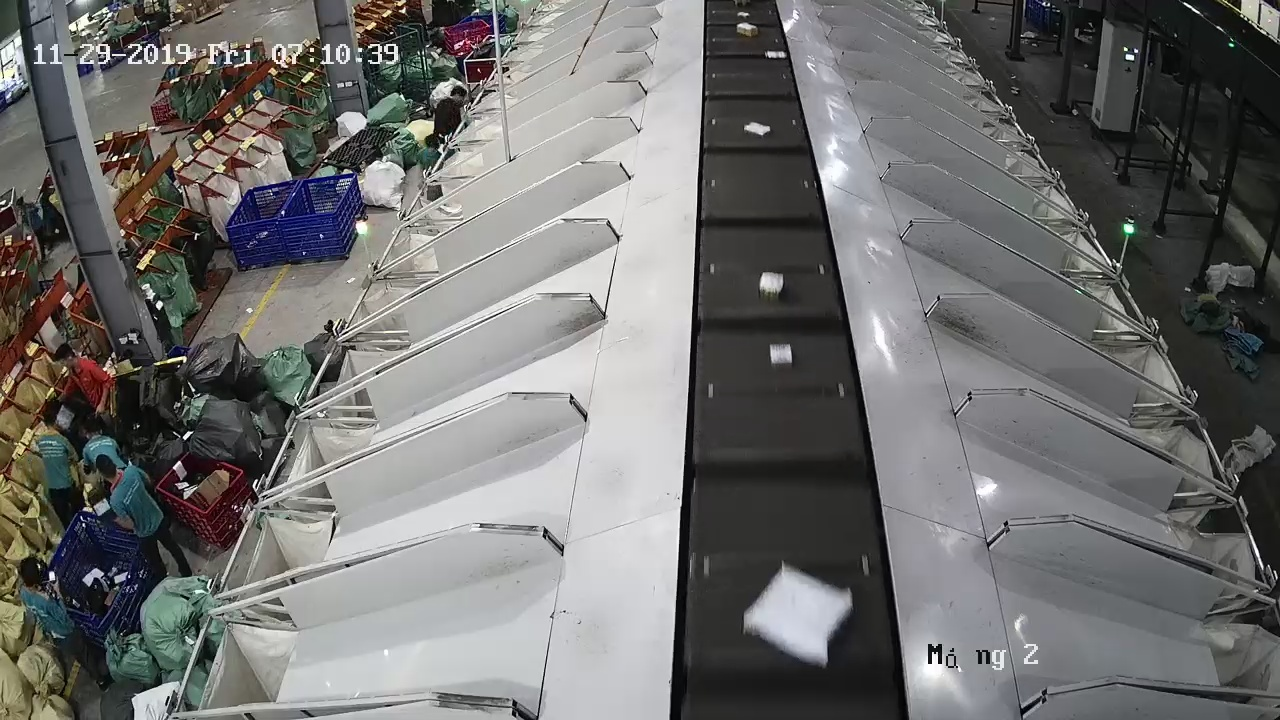parcel: (742, 561, 853, 670), (758, 271, 785, 302), (769, 342, 794, 369)
